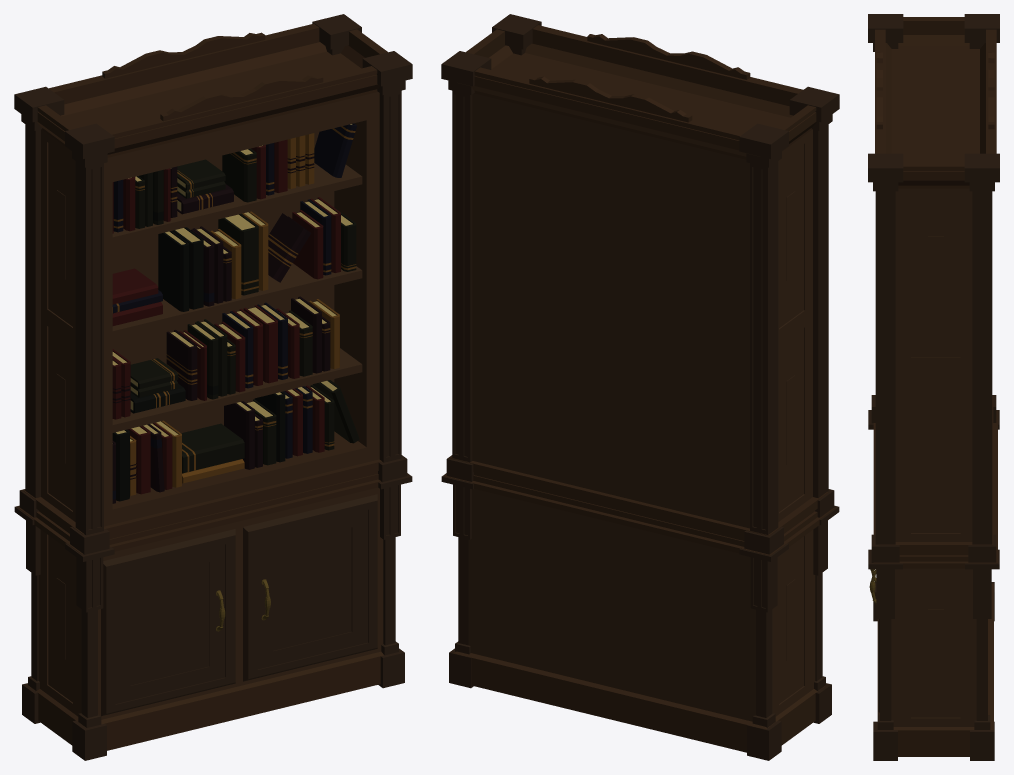
Rendered from q-Bookcase_Books.glb.
3 views of the same model, side by side, from view 1: azimuth 30°, elevation 25°; view 2: azimuth 150°, elevation 25°; view 3: azimuth 270°, elevation 25° (orthographic). The views are drawn at different scales.
Size of the model in its own units: 184 by 337 by 66.44.
